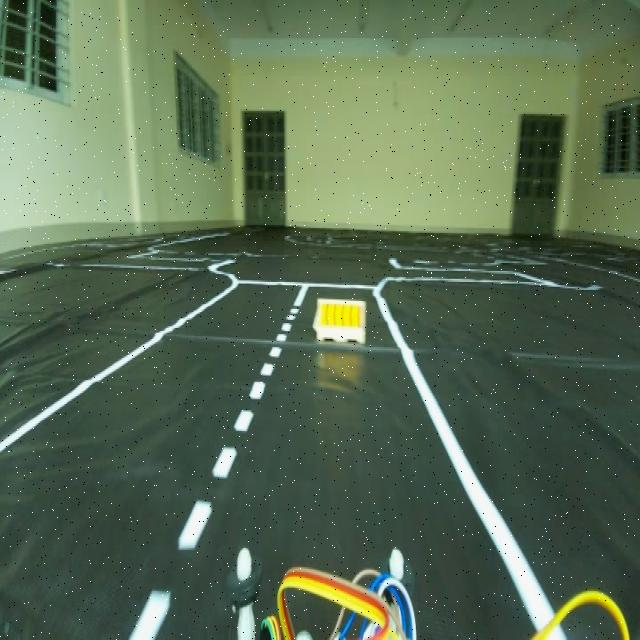roadblock: (309, 286, 377, 368)
